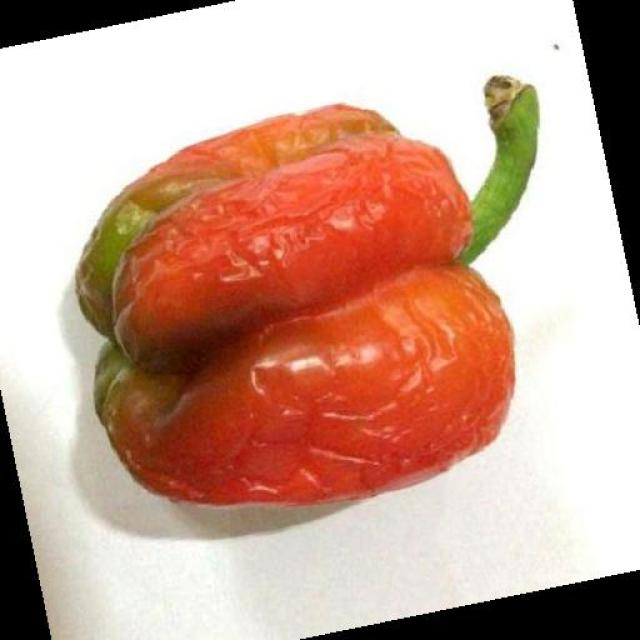Stale_Capsicum: (55, 84, 549, 496)
